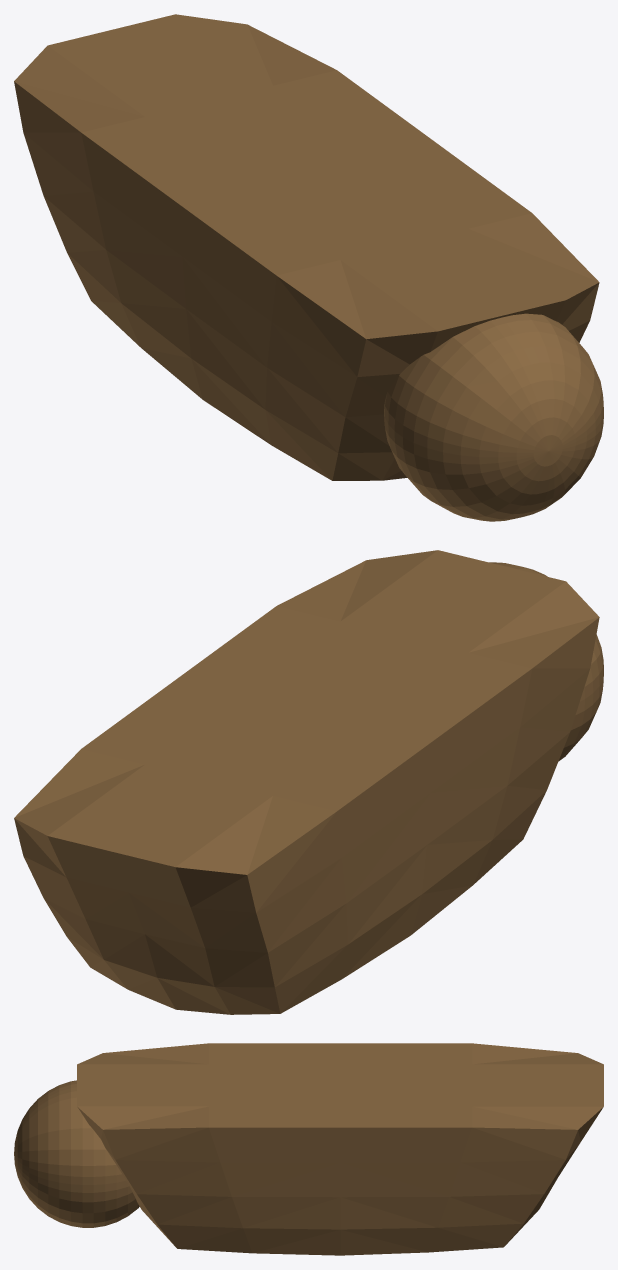
The model's file is LeftFingerJoint31y_joint_visu.dae.
3 views of the same model, one above another, from view 1: azimuth 30°, elevation 25°; view 2: azimuth 150°, elevation 25°; view 3: azimuth 270°, elevation 25° (orthographic). The views are drawn at different scales.
Visible parts, largest first — view 1: node; view 2: node; view 3: node.
Boxes of the visible parts, x1,y1,x2,y2 form: node: [14, 14, 603, 521]; node: [14, 550, 603, 1014]; node: [14, 1043, 603, 1255].
Size of the model in its own units: 0.0109 by 0.00867 by 0.0322.
